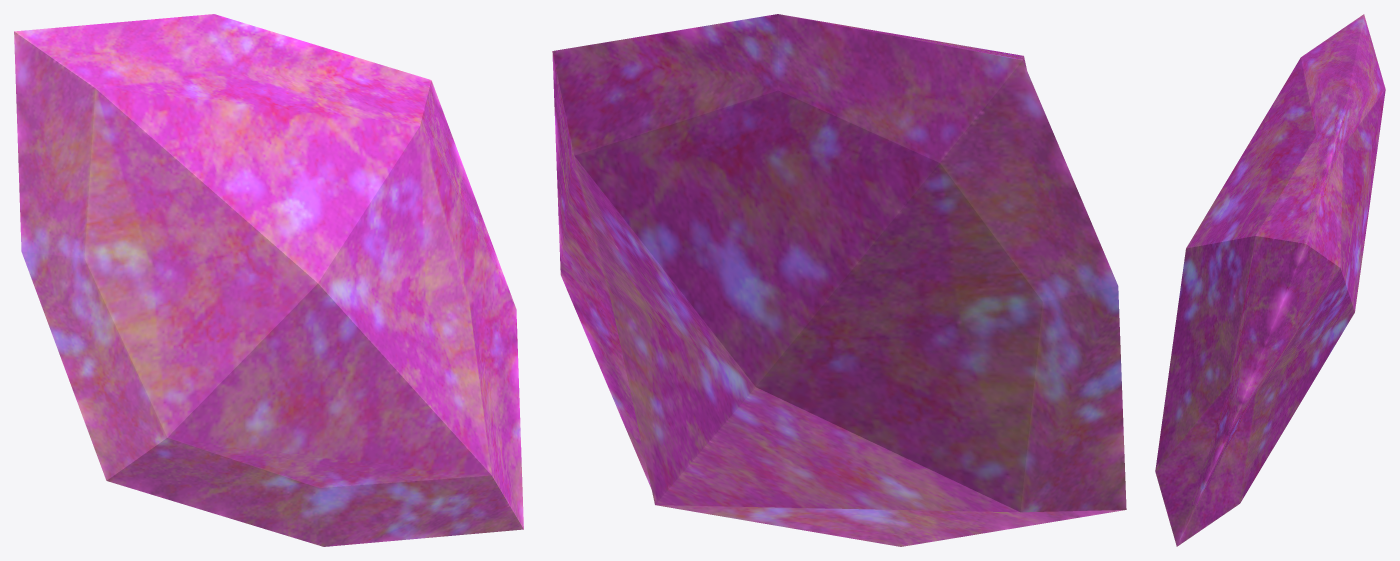
The model's file is COMBOSTONE.fbx.
3 renders of one model, left to right at view 1: azimuth 30°, elevation 25°; view 2: azimuth 150°, elevation 25°; view 3: azimuth 270°, elevation 25°, orthographic. The views are drawn at different scales.
Parts seen in each view (by area): view 1: Combo Stone; view 2: Combo Stone; view 3: Combo Stone.
Boxes of the visible parts, x1,y1,x2,y2 form: Combo Stone: (14, 14, 523, 546); Combo Stone: (552, 14, 1126, 546); Combo Stone: (1155, 14, 1385, 546).
Bounding box in the file's own units: 19.49 × 20.84 × 11.24.
